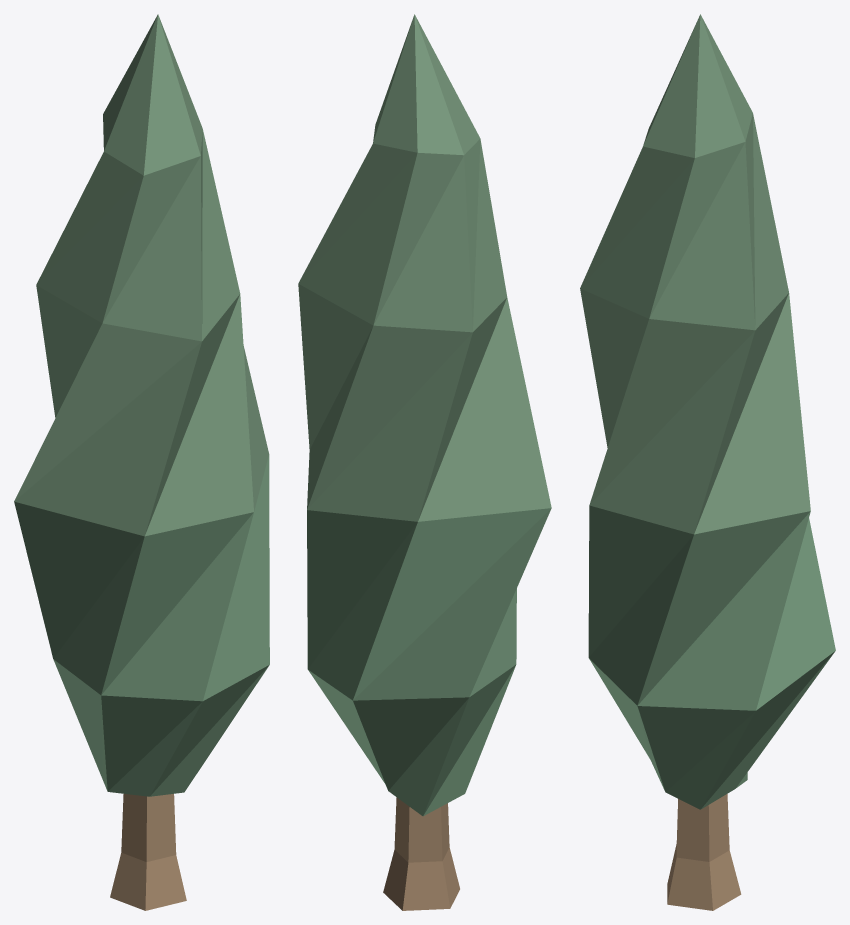
The model's file is poplar.glb.
The picture shows the model from 3 angles, left to right: view 1: azimuth 30°, elevation 25°; view 2: azimuth 150°, elevation 25°; view 3: azimuth 270°, elevation 25°; orthographic projection.
Visible parts, largest first — view 1: tree_poplar; view 2: tree_poplar; view 3: tree_poplar.
Boxes of the visible parts, x1=… form: tree_poplar: x1=14, y1=14, x2=269, y2=910; tree_poplar: x1=298, y1=14, x2=551, y2=910; tree_poplar: x1=580, y1=14, x2=835, y2=910.
Bounding box in the file's own units: 0.296 × 1 × 0.2622.
